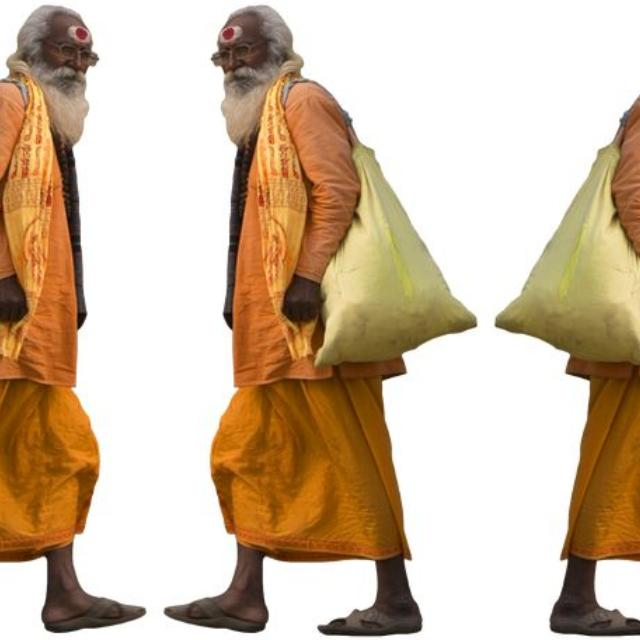person: (160, 0, 470, 640), (0, 0, 148, 640), (499, 0, 640, 640)
